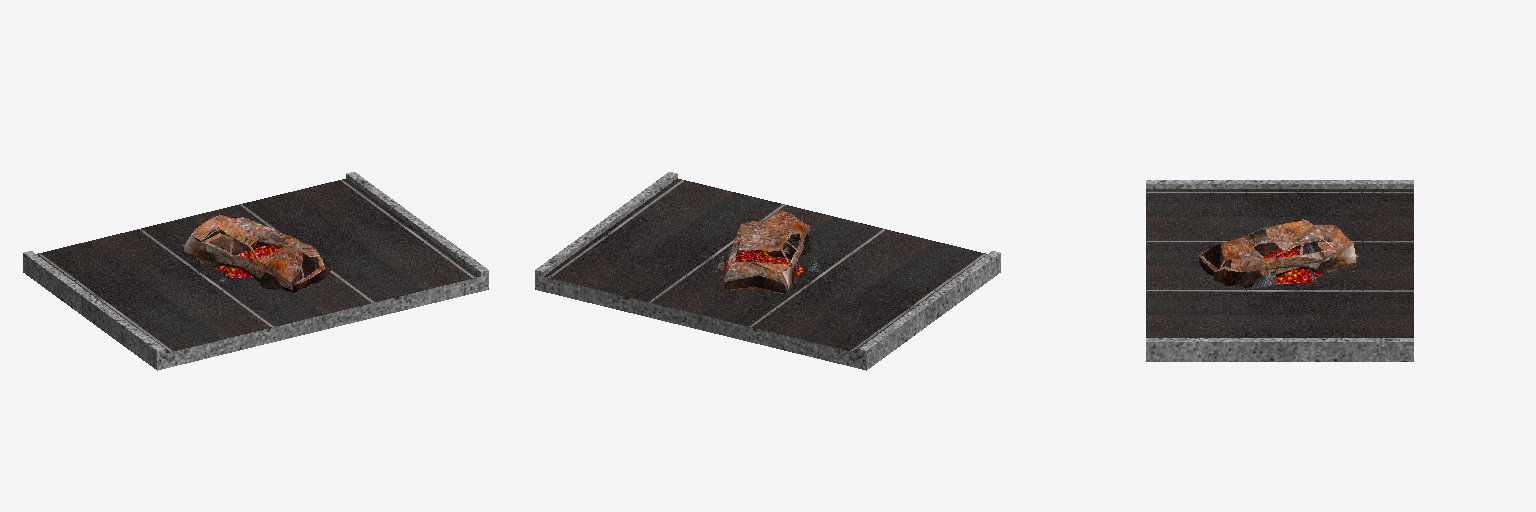
The picture shows the model from 3 angles: view 1: azimuth 30°, elevation 25°; view 2: azimuth 150°, elevation 25°; view 3: azimuth 270°, elevation 25°; orthographic projection.
Visible parts, largest first — view 1: Cube, Car, lava; view 2: Cube, Car, lava; view 3: Cube, Car, lava.
Part boxes in pixels (x1,y1,x2,y2): Cube: (23, 172, 488, 370); Car: (182, 215, 330, 292); lava: (213, 242, 288, 283); Cube: (535, 172, 1000, 370); Car: (723, 210, 809, 293); lava: (715, 242, 820, 276); Cube: (1146, 180, 1413, 361); Car: (1199, 219, 1357, 287); lava: (1251, 243, 1338, 288).
Size of the model in its own units: 14.26 by 2.06 by 10.
Materials: 6 (6 with a texture image).